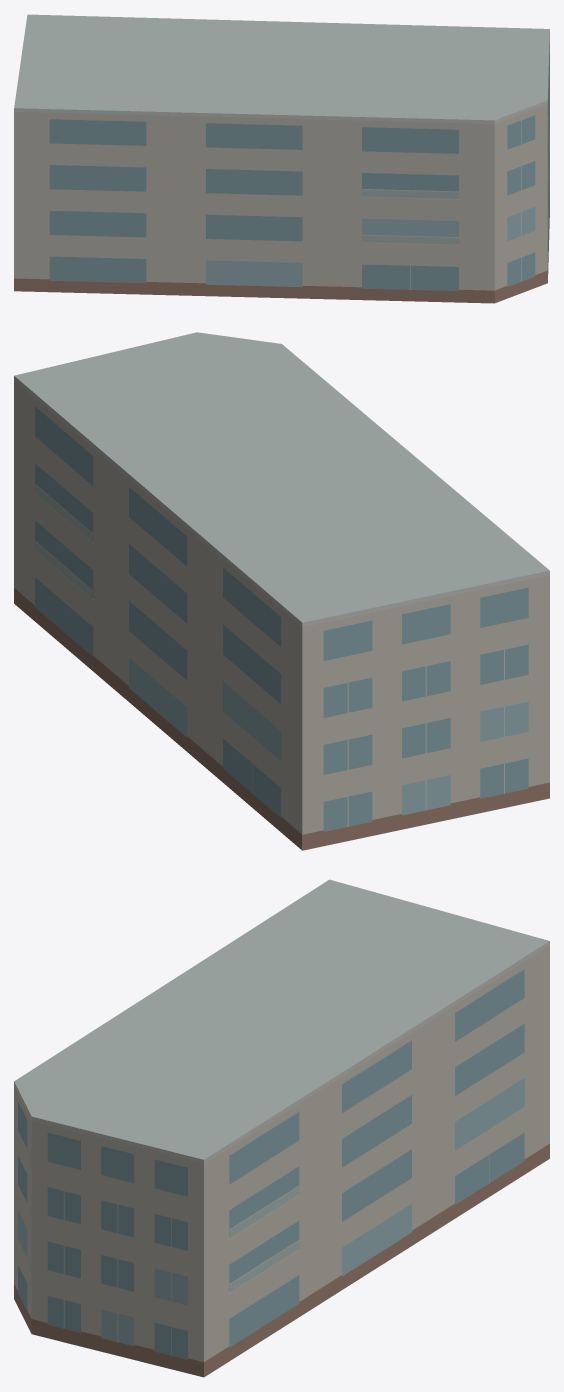
Rendered from survey-upis-32544606.glb.
3 views of the same model, one above another, from view 1: azimuth 30°, elevation 25°; view 2: azimuth 150°, elevation 25°; view 3: azimuth 270°, elevation 25° (orthographic). The views are drawn at different scales.
Parts seen in each view (by area): view 1: survey-upis-32544606.tmp; view 2: survey-upis-32544606.tmp; view 3: survey-upis-32544606.tmp.
Boxes of the visible parts, bbox=[...] form: survey-upis-32544606.tmp: bbox=[14, 14, 549, 303]; survey-upis-32544606.tmp: bbox=[14, 332, 549, 850]; survey-upis-32544606.tmp: bbox=[14, 879, 549, 1377].
Bounding box in the file's own units: 33.98 × 12.3 × 27.45.
